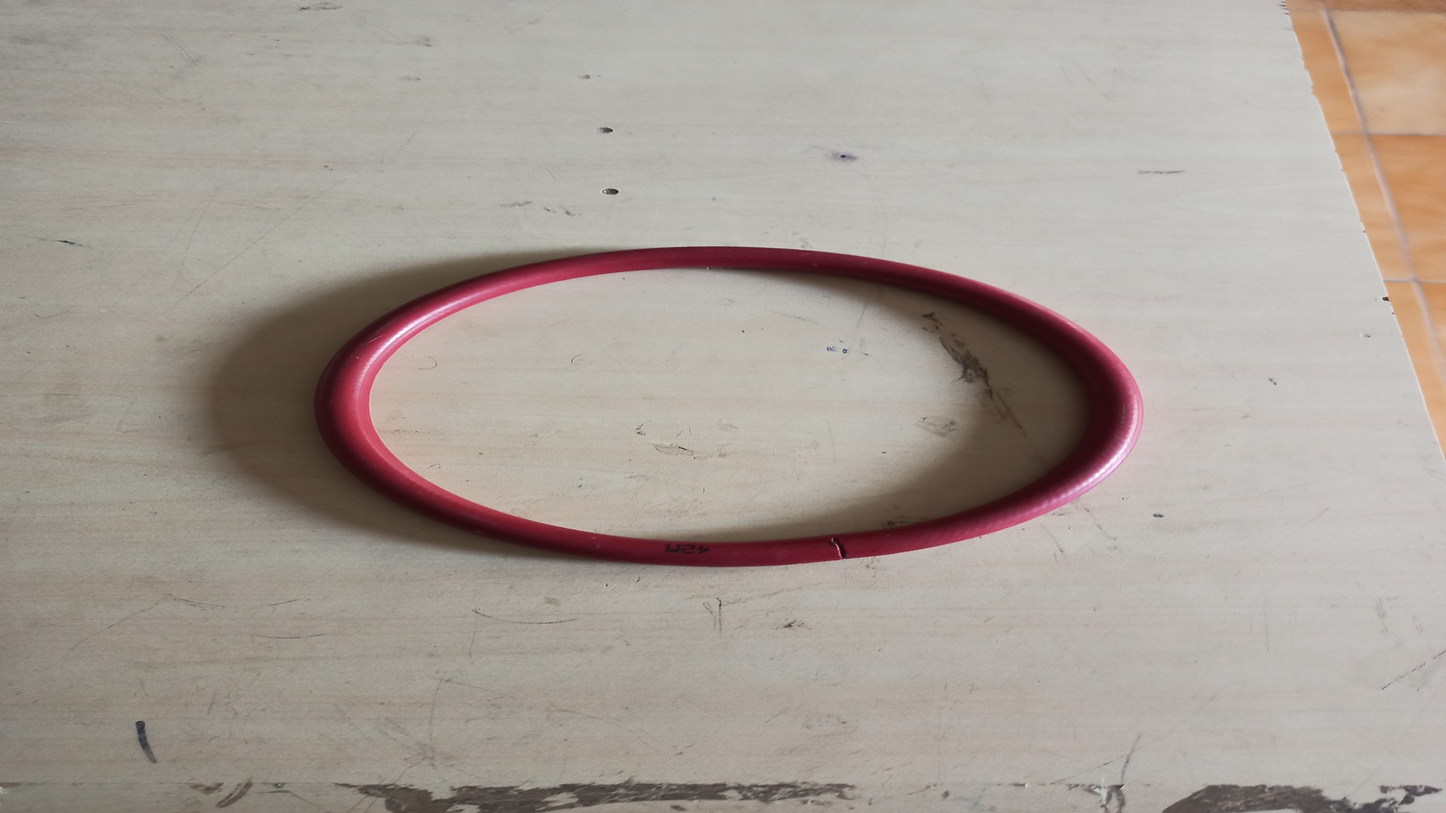Red ring: (313, 245, 1141, 563)
